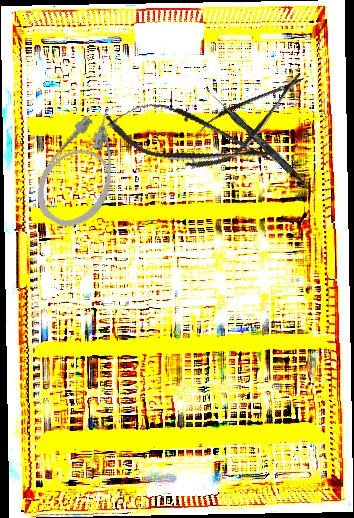Cannula: (24, 96, 147, 239)
Micro Scissor: (171, 56, 318, 185), (99, 91, 282, 184)
Spatula Surgical: (201, 85, 318, 196)
